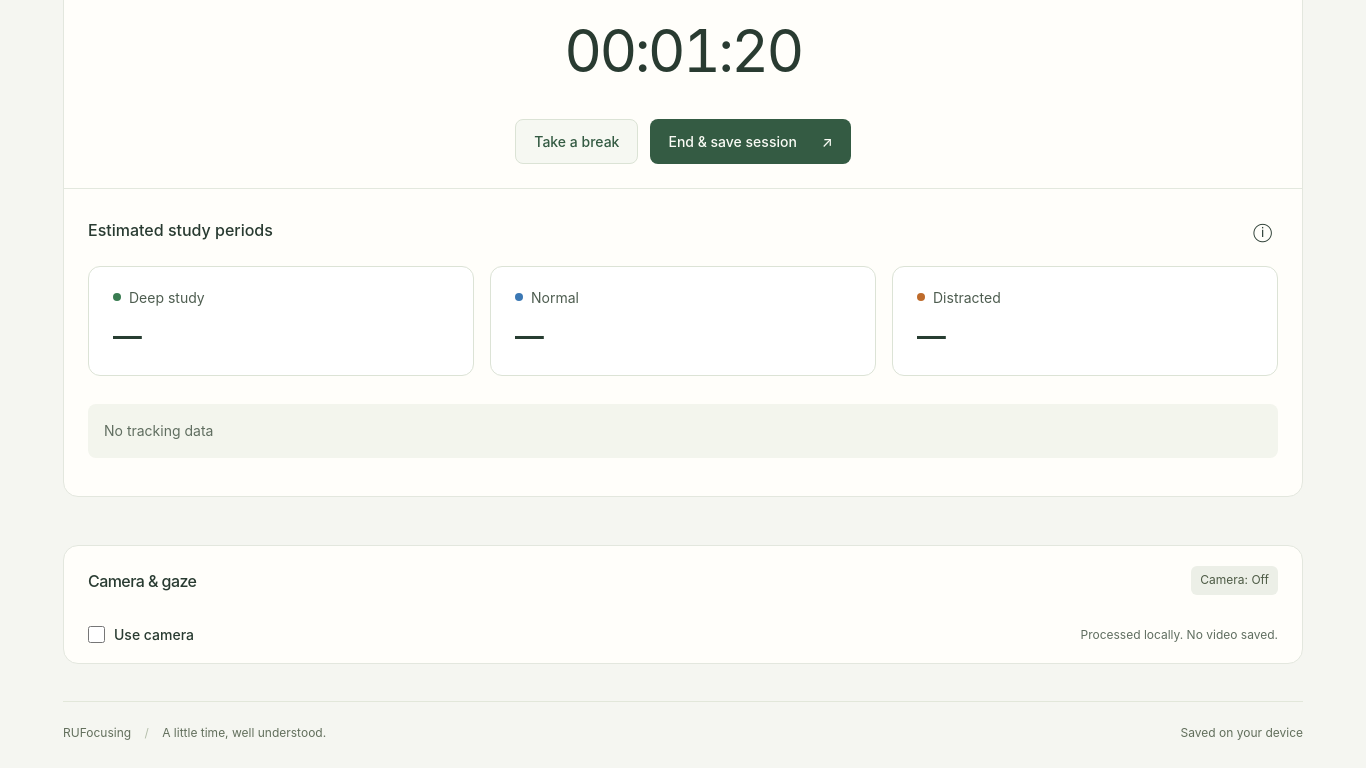
Dashboard camera controls › ignores a poll started before a camera command
The width and height of the screenshot is (1366, 768).
(page scrolled)
What coordinates should you click on to do the following:
click the checkbox labelled "Use camera"
I would click on:
 (96, 635)
Its box is [88,626,105,644].
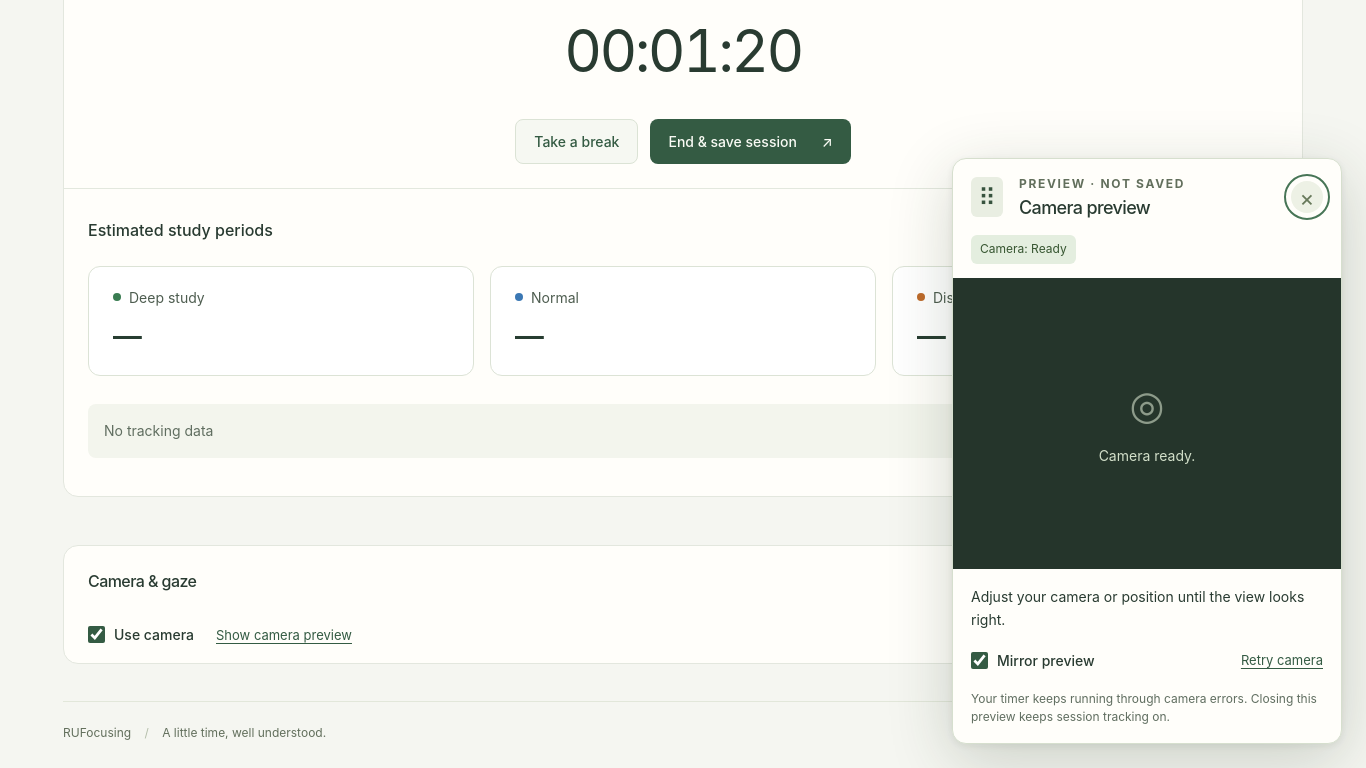
Check: the checkbox labelled "Use camera" is checked, box [88,626,105,644]
Check: the text "Camera: Ready" is shown, box [1173,566,1278,595]
